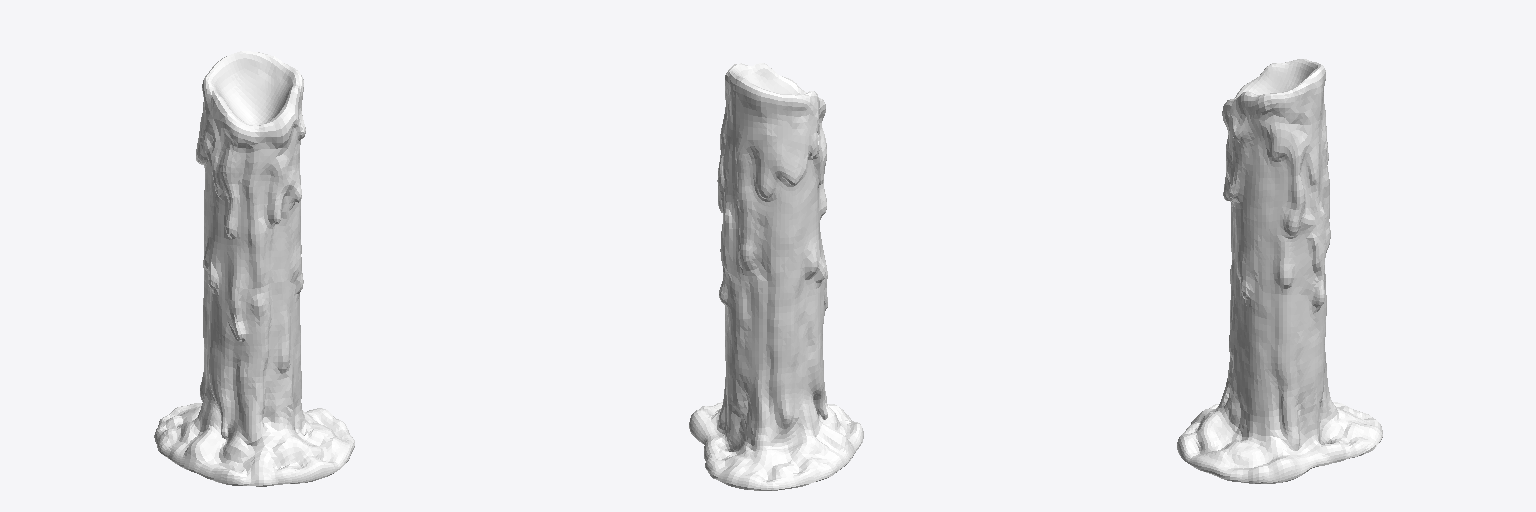
The model's file is candle_2.obj.
3 renders of one model, left to right at view 1: azimuth 30°, elevation 25°; view 2: azimuth 150°, elevation 25°; view 3: azimuth 270°, elevation 25°, orthographic.
Visible parts, largest first — view 1: candle_2.001; view 2: candle_2.001; view 3: candle_2.001.
Boxes of the visible parts, <box> form: candle_2.001: <box>154,51,354,486</box>; candle_2.001: <box>689,63,863,490</box>; candle_2.001: <box>1177,59,1382,483</box>.
Size of the model in its own units: 0.124 by 0.2797 by 0.1376.